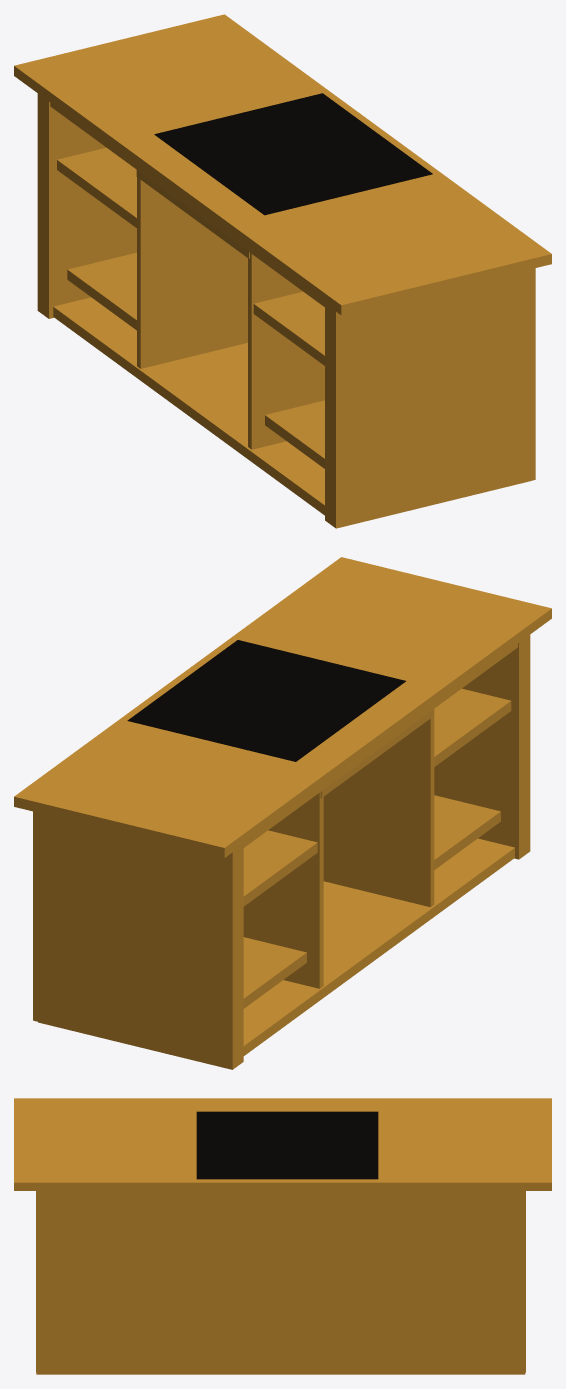
File: stove_table.dae
3 views of the same model, one above another, from view 1: azimuth 30°, elevation 25°; view 2: azimuth 150°, elevation 25°; view 3: azimuth 270°, elevation 25° (orthographic). The views are drawn at different scales.
Parts seen in each view (by area): view 1: Cube_002; view 2: Cube_002; view 3: Cube_002.
Boxes of the visible parts, box(x1,y1,x2,y2) form: Cube_002: box(14, 14, 551, 528); Cube_002: box(14, 557, 551, 1069); Cube_002: box(14, 1098, 551, 1374).
Bounding box in the file's own units: 0.65 × 1.75 × 0.6958.
